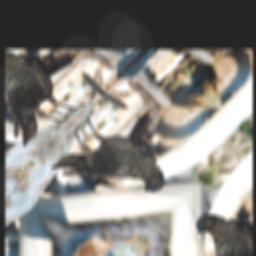Crow: (40, 103, 183, 227)
